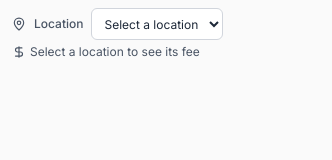
Test: search course location offerings › offers every location under one course and shows only the selected location's fee
Expected: the text "Select a location to see its fee" is shown, [12,44,200,59]
Expected: the text "19,050" is not shown
Step 1. Select "Leeds" in the dropdown labelled "Location" → (158, 24), box [92,8,224,40]
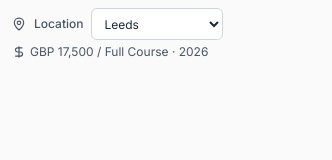
Expected: the text "GBP 17,500 / Full Course · 2026" is shown, [12,44,208,59]
Step 2. Select "London" in the dropdown labelled "Location" → (158, 24), box [92,8,224,40]
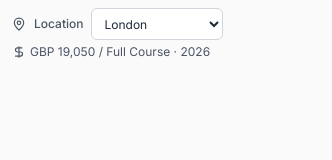
Expected: the text "GBP 19,050 / Full Course · 2026" is shown, [12,44,210,59]
Step 3. Select "Online" in the dropdown labelled "Location" → (158, 24), box [92,8,224,40]
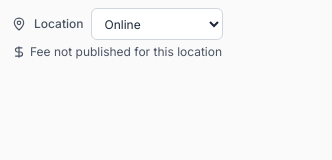
Expected: the text "Fee not published for this location" is shown, [12,44,222,59]
